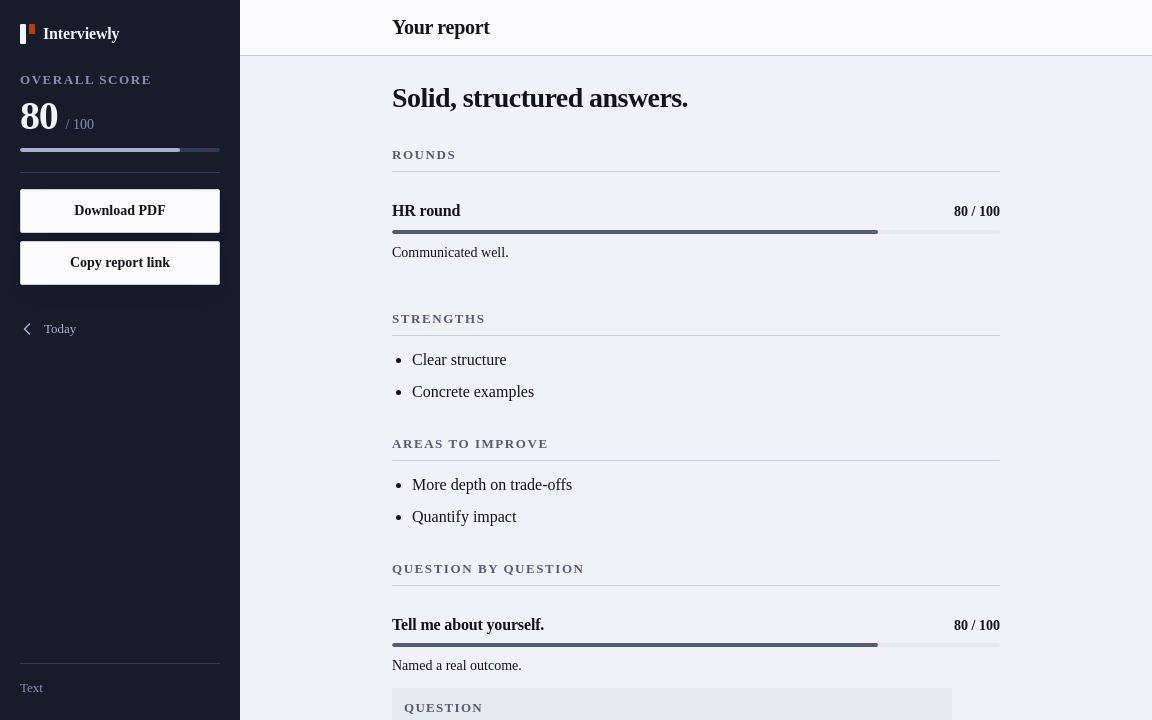
Test: report + transcript (W07) › copies the current page URL and shows a confirmation
This screenshot has width=1152, height=720.
Click the button with test id "report-copy-link".
click(120, 263)  # box [20,241,220,285]
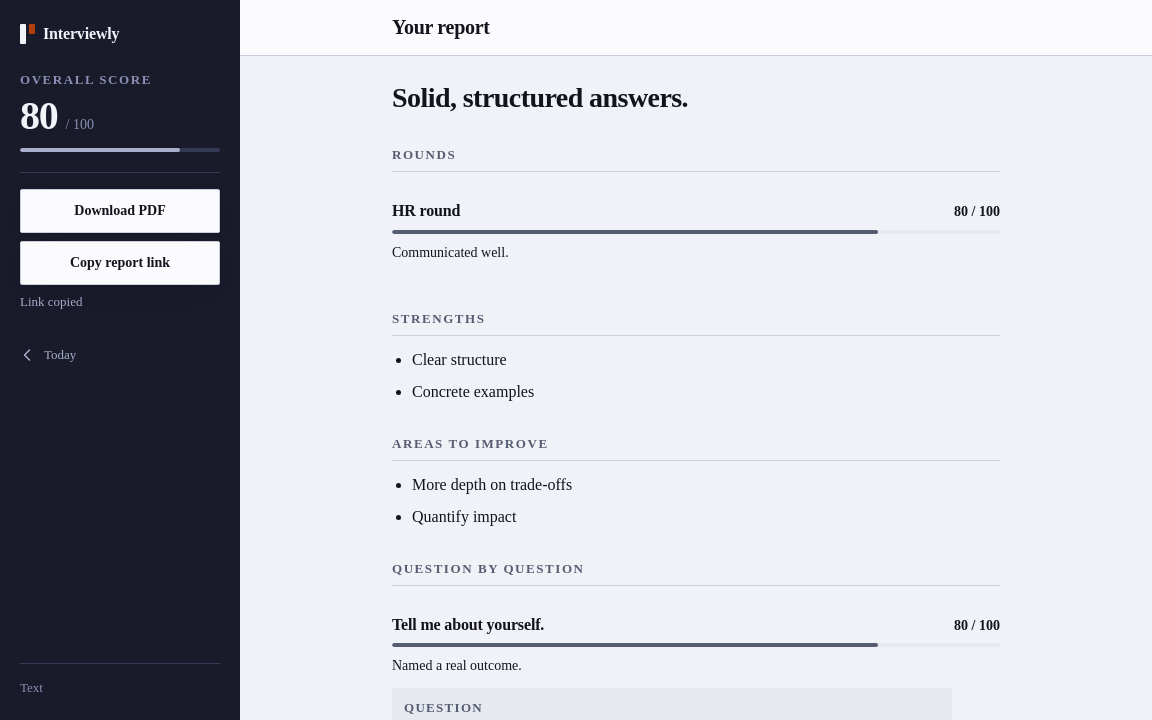
expect the message with test id "report-copy-link-status" reads "Link copied": met, box [20,294,82,309]
